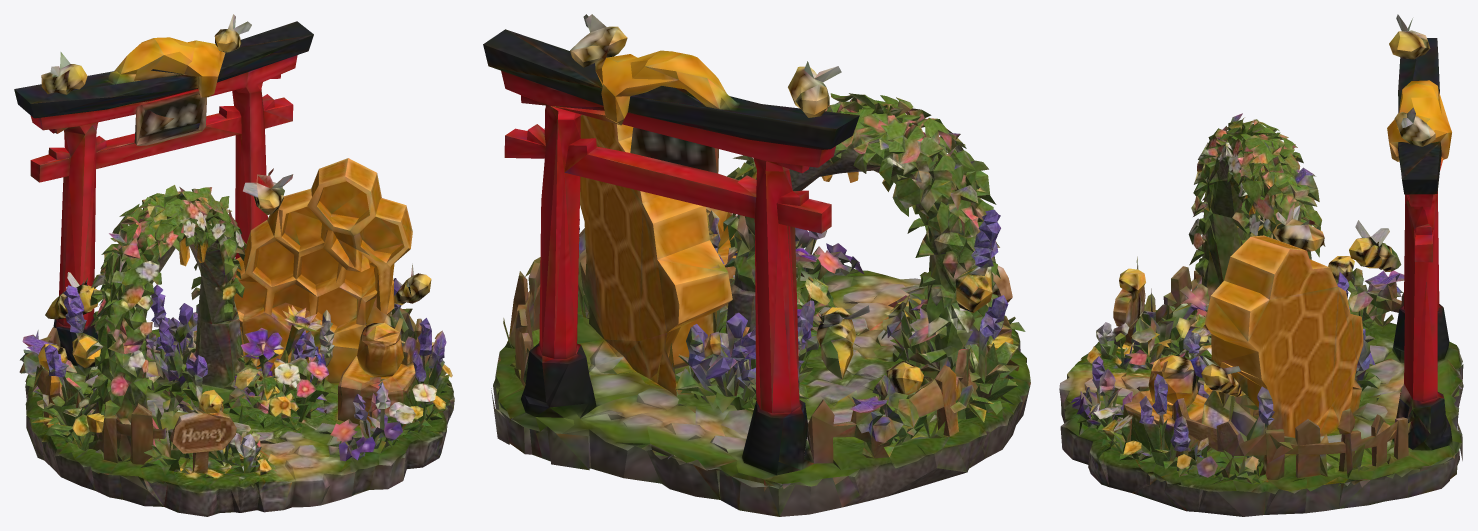
File: island_english.glb
3 renders of one model, left to right at view 1: azimuth 30°, elevation 25°; view 2: azimuth 150°, elevation 25°; view 3: azimuth 270°, elevation 25°, orthographic. The views are drawn at different scales.
Visible parts, largest first — view 1: Mesh_0; view 2: Mesh_0; view 3: Mesh_0.
Part boxes in pixels (left/top/right/bottom): Mesh_0: left=14, top=14, right=454, bottom=516; Mesh_0: left=483, top=14, right=1030, bottom=516; Mesh_0: left=1059, top=14, right=1463, bottom=516.
Bounding box in the file's own units: 1.9 × 1.66 × 1.71.
1 material, 1 textured.
